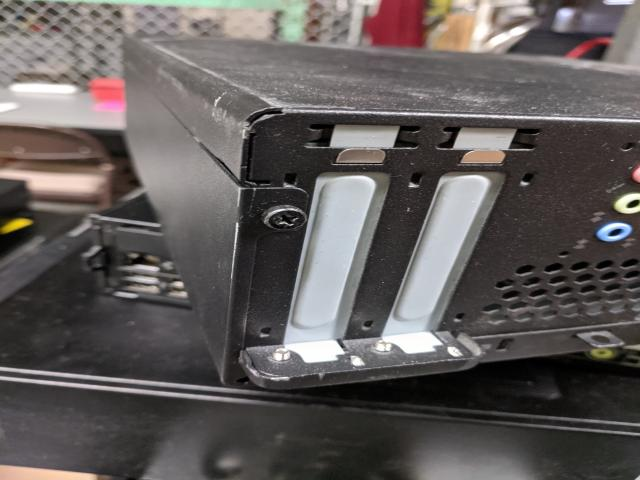CRS: (262, 205, 310, 233)
